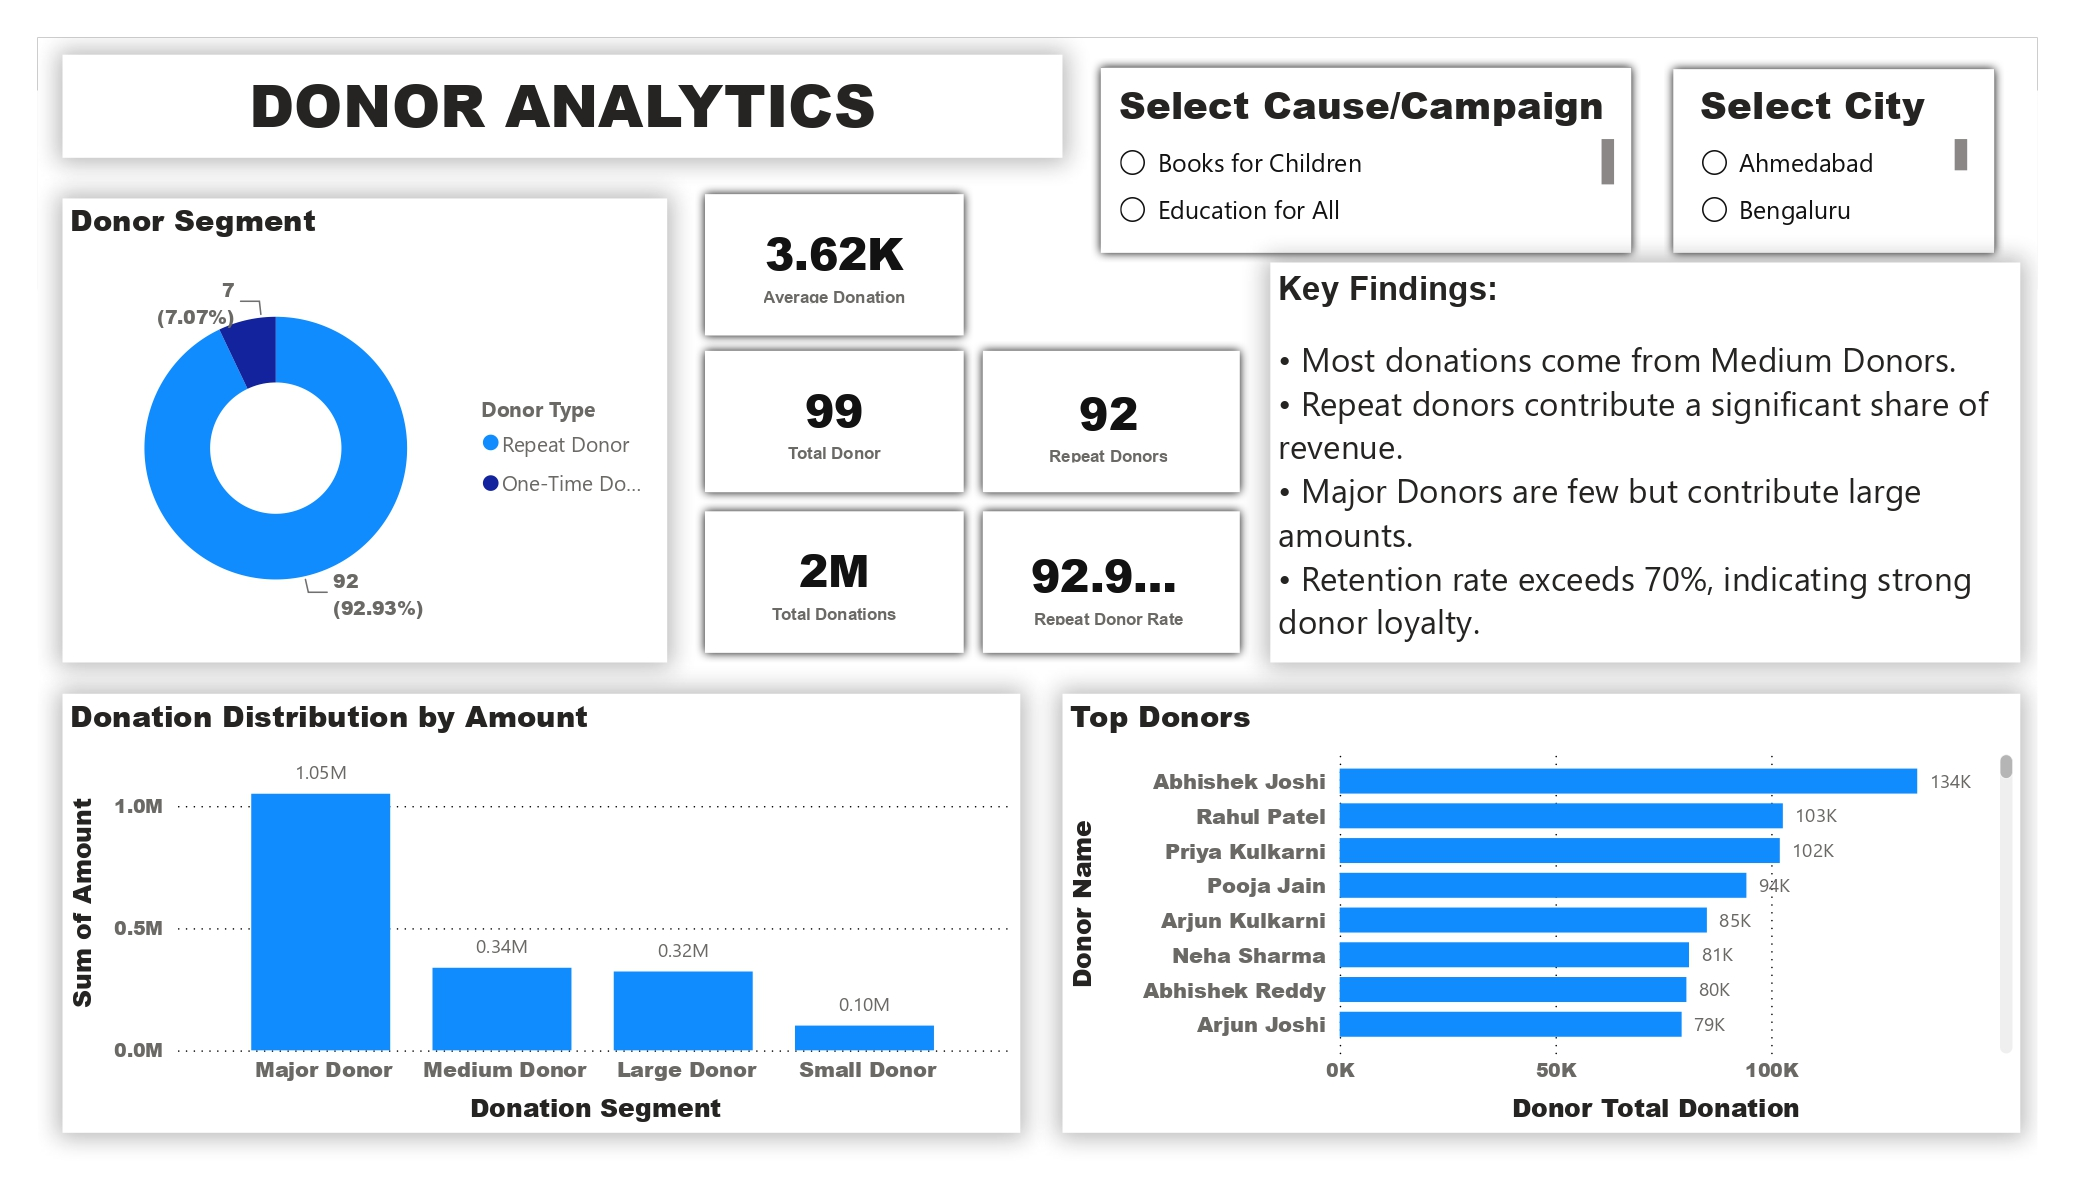

What the dashboard file says about the page in this screenshot:
{"tool":"powerbi","page":{"name":"Page 2","canvas":[1280,720],"ordinal":1},"visuals":[{"type":"shape","box":[1041.4,14.3,217.1,130],"z":0},{"type":"shape","box":[674.3,12.9,351.4,131.4],"z":1000},{"type":"textbox","box":[15.7,11.4,640,65.7],"z":2000},{"type":"cardVisual","fields":{"Data":["Donor Summary.Retention Rate"]},"box":[390,481.4,238.6,131.4],"z":3000},{"type":"listSlicer","title":"Select Cause/Campaign","fields":{"Values":["NayePankh Donations.Cause/Campaign"]},"box":[687.1,25.7,327.1,102.9],"z":4000},{"type":"listSlicer","title":"Select City","fields":{"Values":["NayePankh Donations.City"]},"box":[1058.6,25.7,181.4,102.9],"z":5000},{"type":"columnChart","title":"Donation Distribution by Amount","fields":{"Category":["NayePankh Donations.Donation Segment"],"Y":["Sum(NayePankh Donations.Amount)"]},"box":[15.7,420,612.9,281.4],"z":6000},{"type":"clusteredBarChart","title":"Top Donors","fields":{"Category":["NayePankh Donations.Donor Name"],"Y":["NayePankh Donations.Donor Total Donation"]},"box":[655.7,420,612.9,281.4],"z":7000},{"type":"textbox","box":[788.6,144.3,480,255.7],"z":8000},{"type":"donutChart","title":"Donor Segment","fields":{"Category":["Donor Summary.Donor Type"],"Y":["CountNonNull(Donor Summary.Donor Name)"]},"box":[15.7,102.9,387.1,297.1],"z":9000},{"type":"shape","box":[421.4,194.3,177.1,102.9],"z":10000},{"type":"shape","box":[421.4,297.1,177.1,102.9],"z":11000},{"type":"shape","box":[598.6,297.1,177.1,102.9],"z":12000},{"type":"shape","box":[598.6,194.3,177.1,102.9],"z":13000},{"type":"cardVisual","fields":{"Data":["NayePankh Donations.Total Donations"]},"box":[431.4,305.7,157.1,84.3],"z":14000},{"type":"cardVisual","fields":{"Data":["NayePankh Donations.Total Donor"]},"box":[431.4,202.9,157.1,84.3],"z":15000},{"type":"cardVisual","fields":{"Data":["Donor Summary.Repeat Donor Rate"]},"box":[606.9,308.6,157.1,84.3],"z":16000},{"type":"cardVisual","fields":{"Data":["NayePankh Donations.Repeat Donors"]},"box":[606.9,204.3,157.1,84.3],"z":17000},{"type":"shape","box":[421.4,94.3,177.1,102.9],"z":18000},{"type":"cardVisual","fields":{"Data":["NayePankh Donations.Average Donation"]},"box":[431.4,102.9,157.1,84.3],"z":19000}]}

Visuals, with their boxes on the page's 1280x720 design canvas (x1, y1, x2, y2). These are canvas units, not pixel positions in the 2075x1200 screenshot, which may show the page scaled, cropped or inside an application window:
shape: 1041 14 1258 144
shape: 674 13 1026 144
textbox: 16 11 656 77
cardVisual - Donor Summary.Retention Rate: 390 481 629 613
"Select Cause/Campaign" listSlicer: 687 26 1014 129
"Select City" listSlicer: 1059 26 1240 129
"Donation Distribution by Amount" columnChart: 16 420 629 701
"Top Donors" clusteredBarChart: 656 420 1269 701
textbox: 789 144 1269 400
"Donor Segment" donutChart: 16 103 403 400
shape: 421 194 598 297
shape: 421 297 598 400
shape: 599 297 776 400
shape: 599 194 776 297
cardVisual - NayePankh Donations.Total Donations: 431 306 588 390
cardVisual - NayePankh Donations.Total Donor: 431 203 588 287
cardVisual - Donor Summary.Repeat Donor Rate: 607 309 764 393
cardVisual - NayePankh Donations.Repeat Donors: 607 204 764 289
shape: 421 94 598 197
cardVisual - NayePankh Donations.Average Donation: 431 103 588 187
